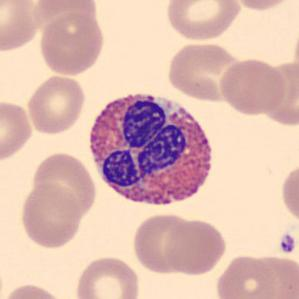Eosinophil: (83, 80, 223, 219)
Platelets: (276, 232, 298, 256)
RBC: (165, 39, 244, 103), (29, 150, 98, 217), (18, 181, 83, 250), (36, 12, 106, 76), (218, 56, 288, 117), (162, 216, 228, 277), (24, 73, 87, 136), (132, 213, 196, 275), (162, 0, 244, 42), (72, 253, 142, 299), (213, 252, 279, 299), (260, 61, 299, 131), (242, 252, 298, 299), (31, 1, 101, 37), (0, 96, 35, 165), (0, 0, 43, 54), (278, 160, 299, 227), (1, 281, 69, 299), (229, 0, 297, 13)
